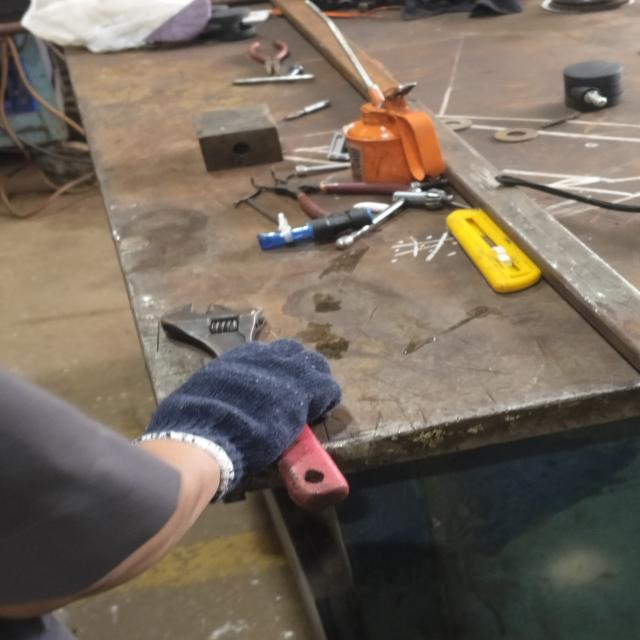Gloves-Detection: (172, 336, 339, 488)
